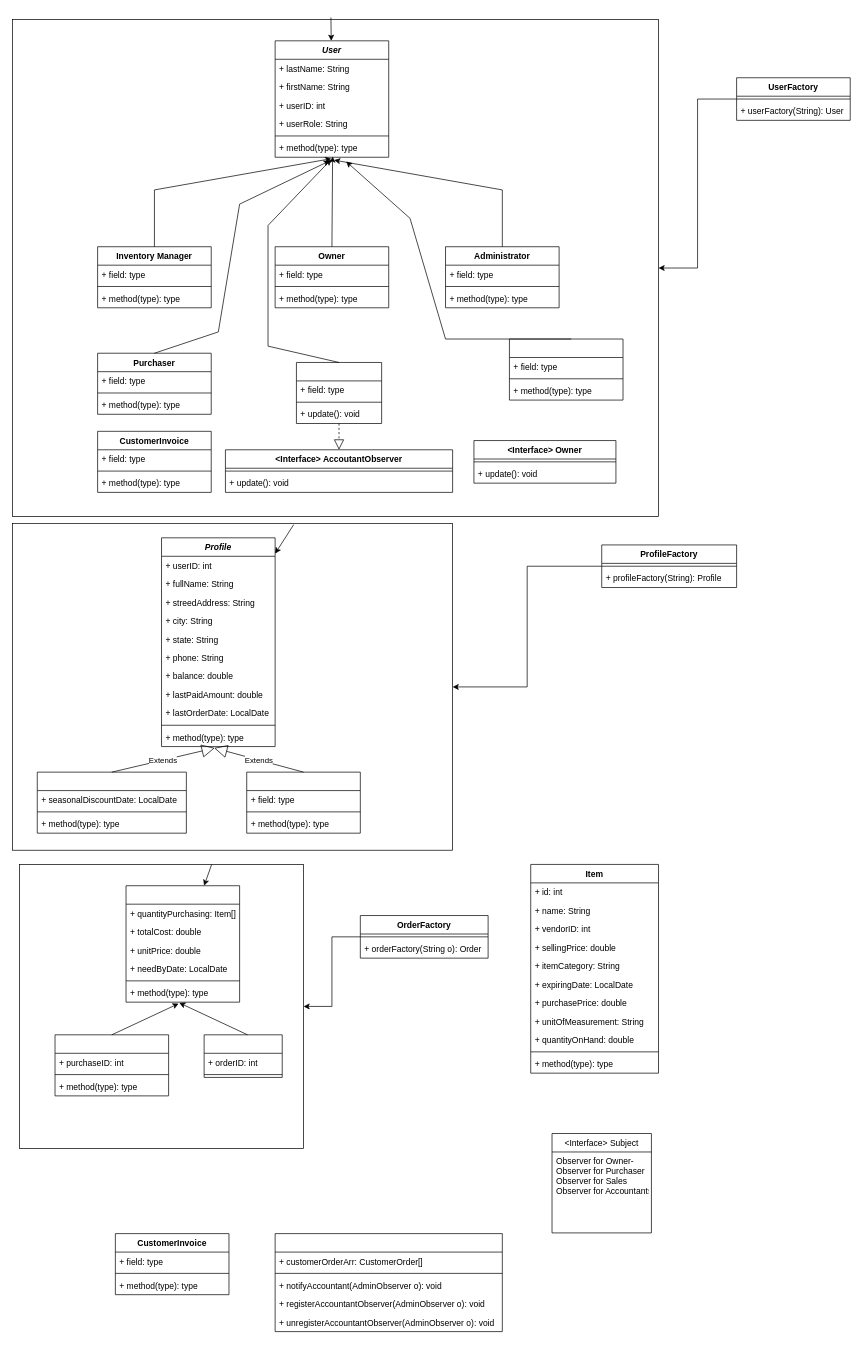
The diagram is 863 pixels wide and 1346 high, and some of its shapes have lost their labels. Each missing label, with the box of its shape:
Accoutant: (296, 362, 382, 424)
Customer: (246, 771, 360, 833)
CustomerOrder: (203, 1034, 282, 1077)
CustomerOrderList: (274, 1233, 502, 1332)
Order: (125, 885, 240, 1002)
PurchaseOrder: (54, 1034, 169, 1096)
SalesPerson: (509, 338, 623, 400)
Vender: (37, 771, 186, 833)
